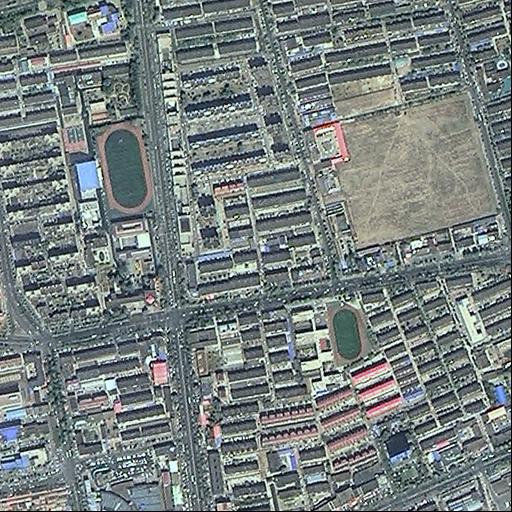school: (59, 114, 164, 314), (287, 290, 376, 385)
